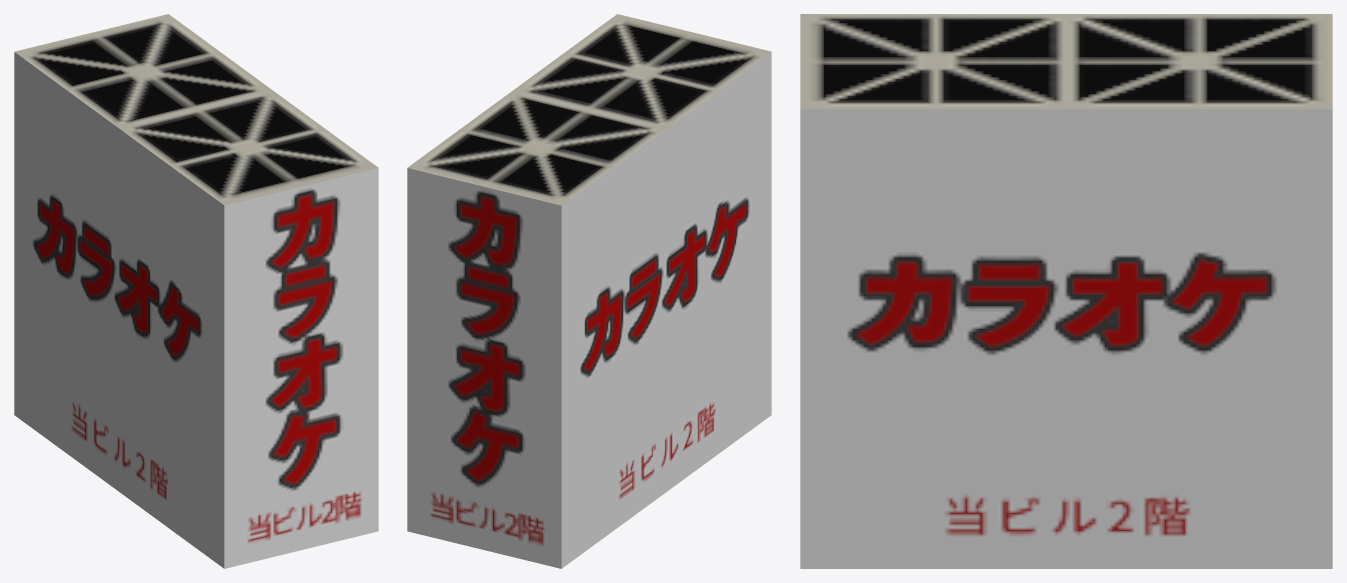
Rendered from Prop_Signbox_K.fbx.
3 renders of one model, left to right at view 1: azimuth 30°, elevation 25°; view 2: azimuth 150°, elevation 25°; view 3: azimuth 270°, elevation 25°, orthographic. The views are drawn at different scales.
Parts seen in each view (by area): view 1: Prop_Signbox_K; view 2: Prop_Signbox_K; view 3: Prop_Signbox_K.
Boxes of the visible parts, left/top/right/bottom form: Prop_Signbox_K: left=14, top=14, right=378, bottom=568; Prop_Signbox_K: left=407, top=14, right=771, bottom=568; Prop_Signbox_K: left=800, top=14, right=1332, bottom=568.
Bounding box in the file's own units: 500 × 1125 × 1180.
